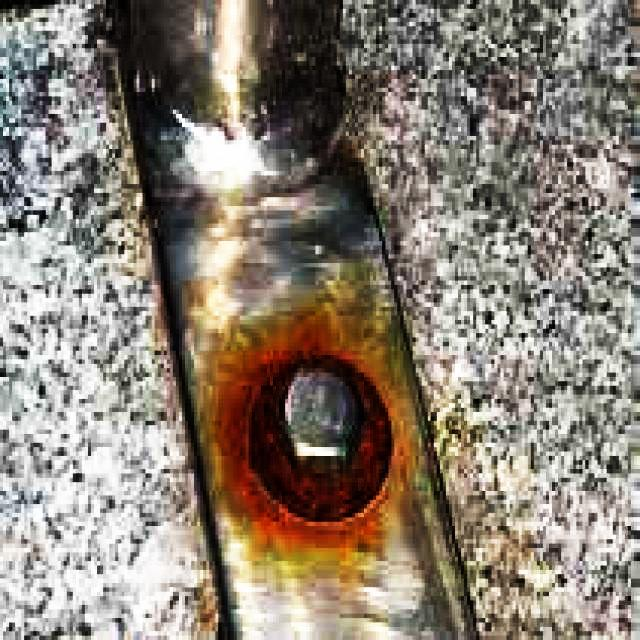Corrosion: (342, 373, 392, 516), (249, 374, 300, 510), (283, 471, 357, 522), (288, 351, 355, 384)
